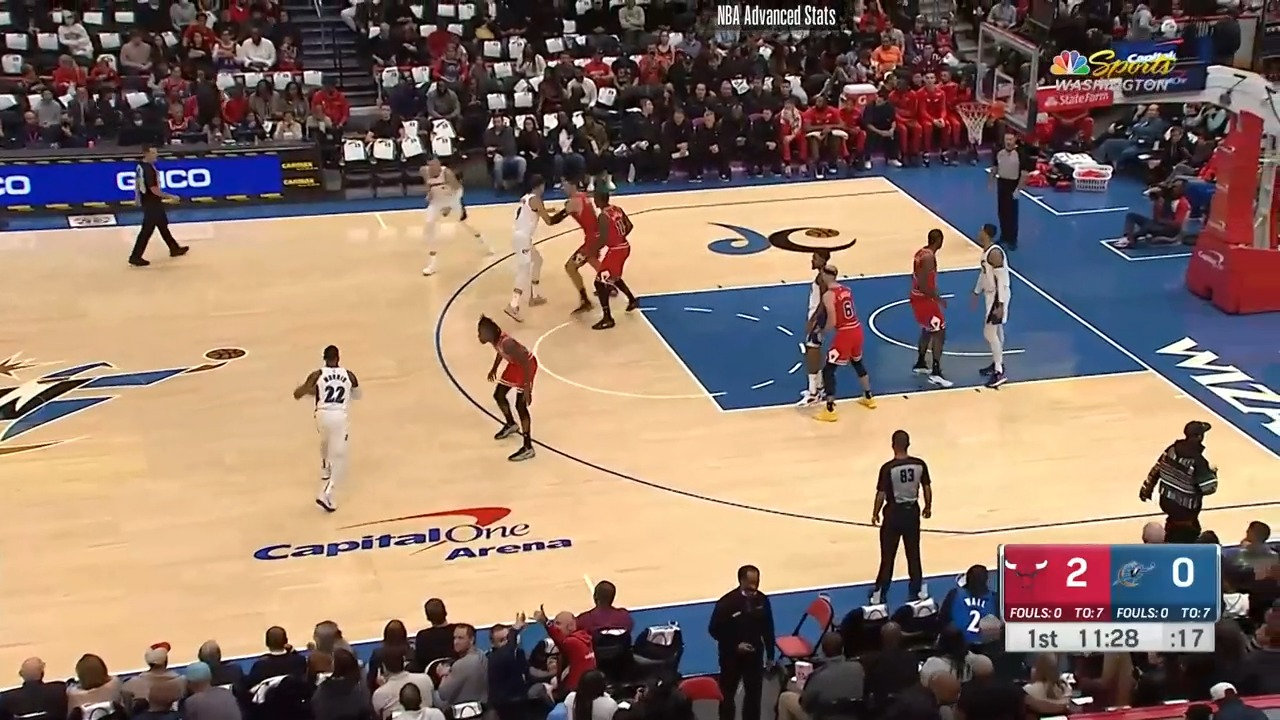net: (954, 95, 1012, 148)
player: (289, 343, 362, 519), (810, 252, 877, 419), (569, 185, 640, 334), (403, 156, 485, 283), (469, 315, 537, 466), (510, 173, 571, 319), (549, 173, 604, 324), (910, 228, 960, 388), (797, 245, 843, 413), (970, 221, 1015, 389)
referee: (862, 433, 936, 620), (121, 142, 187, 274), (992, 129, 1028, 246)
